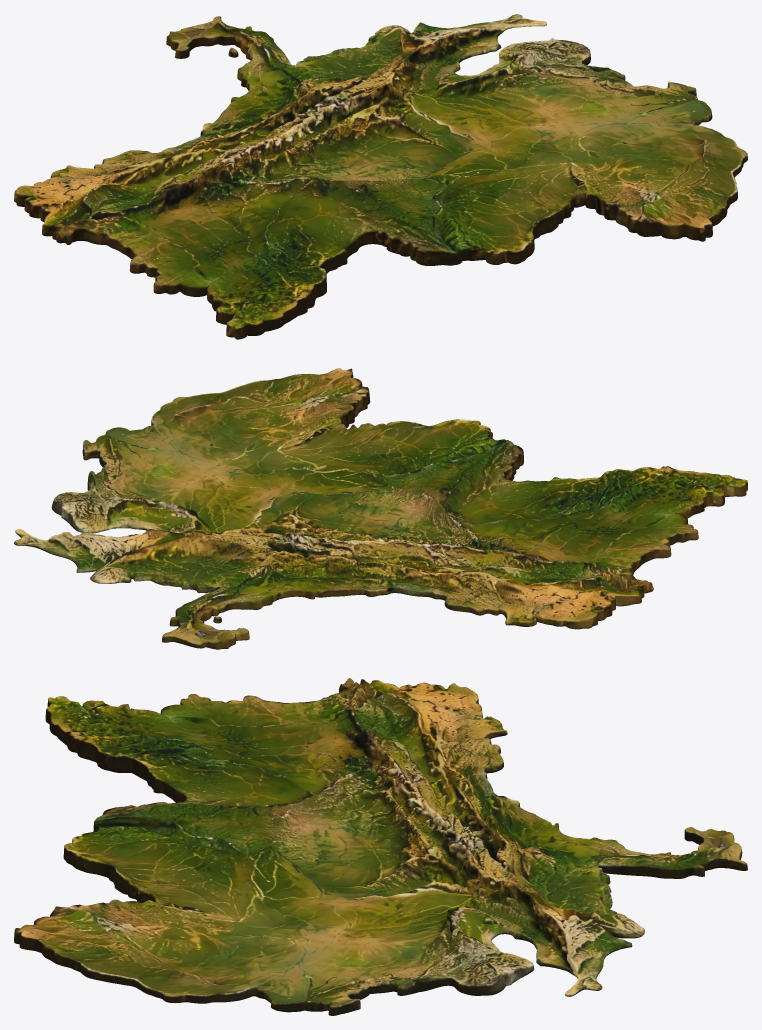
Rendered from mapa_colombia.glb.
3 renders of one model, top to bottom at view 1: azimuth 30°, elevation 25°; view 2: azimuth 150°, elevation 25°; view 3: azimuth 270°, elevation 25°, orthographic. The views are drawn at different scales.
Parts seen in each view (by area): view 1: model; view 2: model; view 3: model.
Part boxes in pixels (left/top/right/bottom): model: left=14, top=14, right=747, bottom=339; model: left=14, top=368, right=747, bottom=649; model: left=14, top=678, right=747, bottom=1015.
Size of the model in its own units: 1.89 by 0.0673 by 1.8.
Materials: 1 (1 with a texture image).
